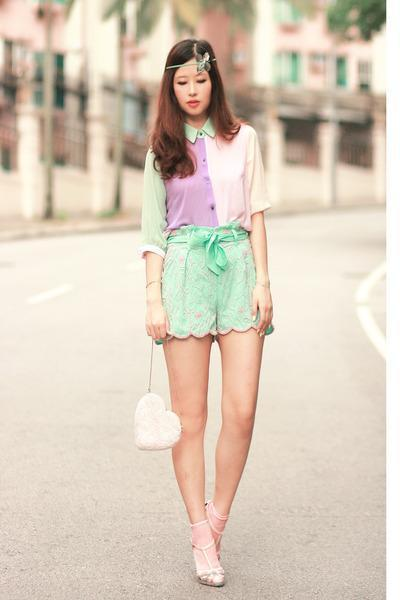shirt: (132, 120, 269, 248)
shoe: (193, 521, 236, 582)
skirt: (163, 219, 251, 337)
